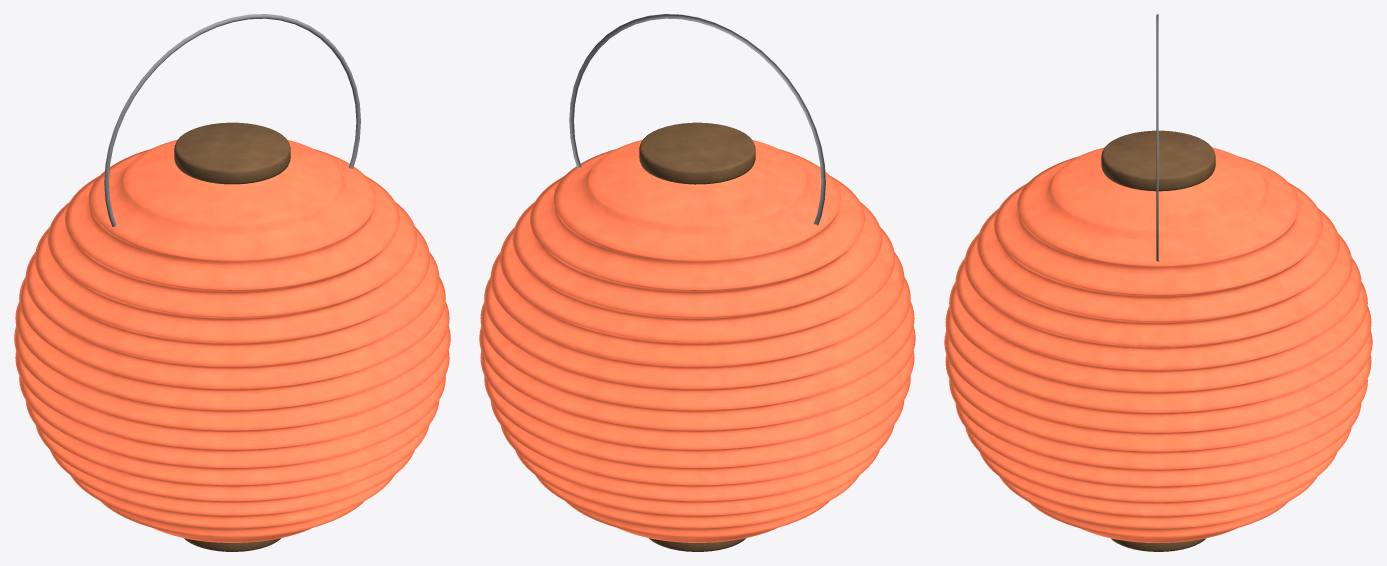
The picture shows the model from 3 angles, left to right: view 1: azimuth 30°, elevation 25°; view 2: azimuth 150°, elevation 25°; view 3: azimuth 270°, elevation 25°; orthographic projection.
Parts seen in each view (by area): view 1: papier, kappeo, buegel, kappeu; view 2: papier, kappeo, buegel, kappeu; view 3: papier, kappeo, buegel, kappeu.
Boxes of the visible parts, x1,y1,x2,y2 form: papier: (14,139,450,542); kappeo: (174,122,290,184); buegel: (104,14,360,226); kappeu: (184,538,281,551); papier: (479,140,915,542); kappeo: (639,122,755,184); buegel: (569,14,825,225); kappeu: (648,538,745,551); papier: (944,147,1372,542); kappeo: (1101,130,1215,191); buegel: (1156,14,1158,261); kappeu: (1111,538,1205,551).
Size of the model in its own units: 0.21 by 0.2722 by 0.21.
Materials: 4 (3 with a texture image).
